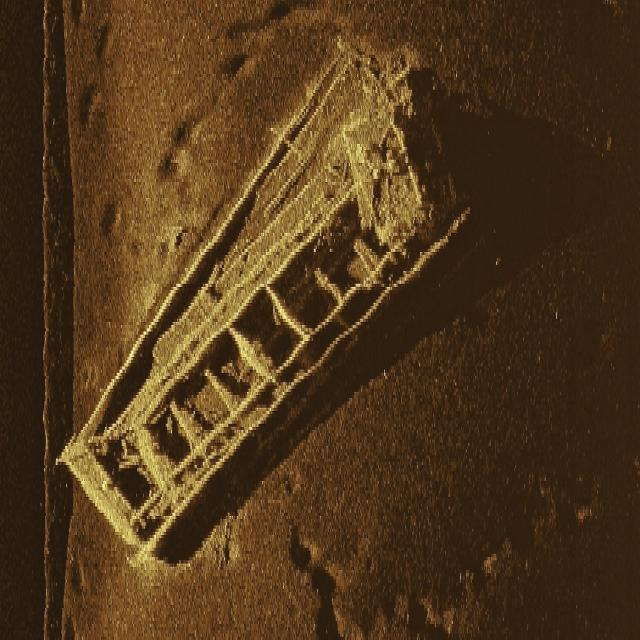shipwreck: (54, 49, 472, 555)
